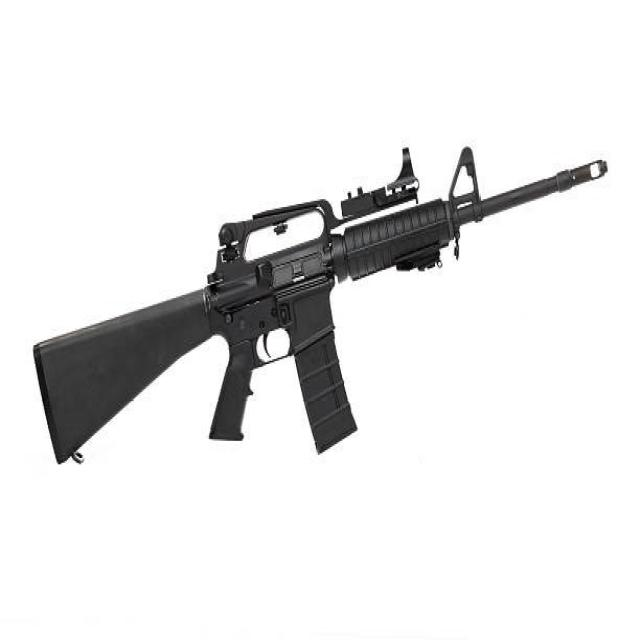rifle: (31, 127, 610, 478)
